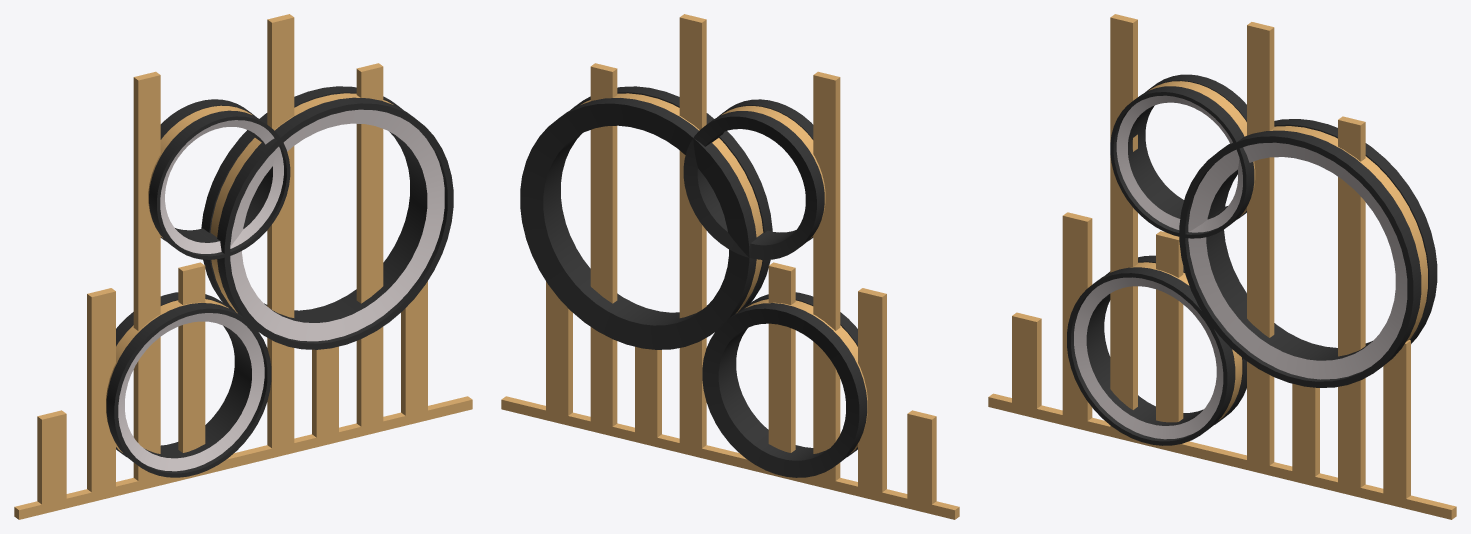
The model's file is LightFloor1.fbx.
3 renders of one model, left to right at view 1: azimuth 30°, elevation 25°; view 2: azimuth 150°, elevation 25°; view 3: azimuth 330°, elevation 25°, orthographic. The views are drawn at different scales.
Visible parts, largest first — view 1: LightFloor1; view 2: LightFloor1; view 3: LightFloor1.
Boxes of the visible parts, x1,y1,x2,y2 form: LightFloor1: [14, 14, 472, 519]; LightFloor1: [501, 14, 959, 519]; LightFloor1: [988, 14, 1456, 519].
Size of the model in its own units: 218 by 200 by 19.5.
